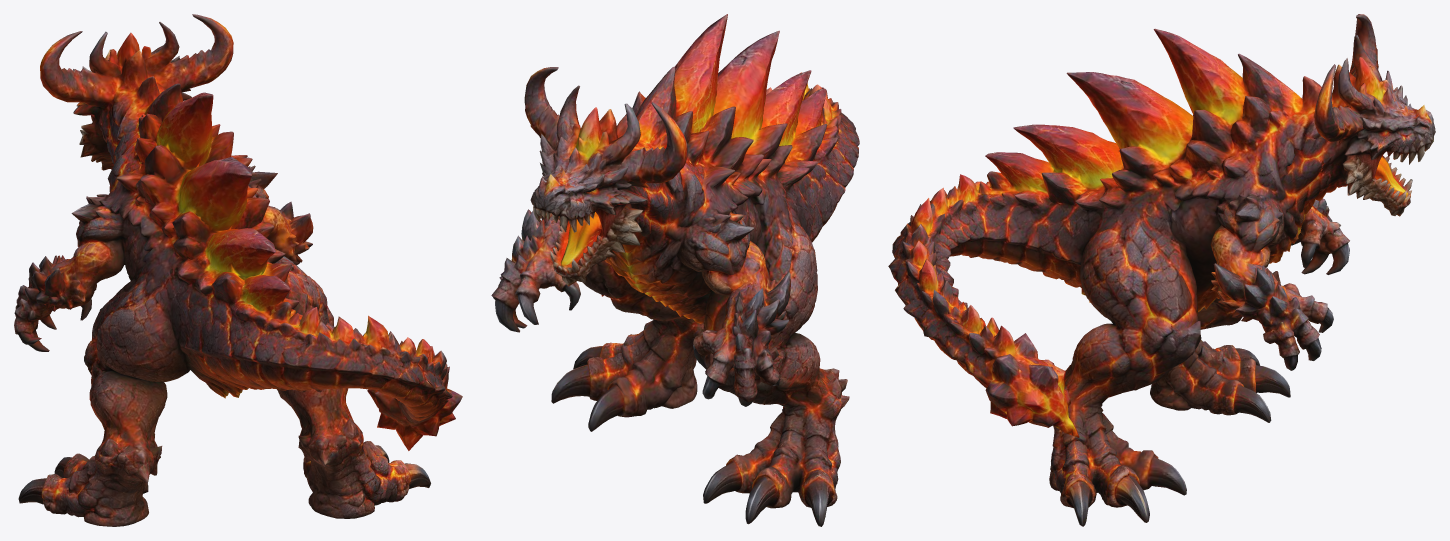
Rendered from boss_45.glb.
The picture shows the model from 3 angles, left to right: view 1: azimuth 30°, elevation 25°; view 2: azimuth 150°, elevation 25°; view 3: azimuth 270°, elevation 25°; orthographic projection. The views are drawn at different scales.
Visible parts, largest first — view 1: tripo_node_a736597d-c3fb-4f76-82c5-25ebc18069dc; view 2: tripo_node_a736597d-c3fb-4f76-82c5-25ebc18069dc; view 3: tripo_node_a736597d-c3fb-4f76-82c5-25ebc18069dc.
Part boxes in pixels (x1=…): tripo_node_a736597d-c3fb-4f76-82c5-25ebc18069dc: x1=14, y1=14, x2=462, y2=526; tripo_node_a736597d-c3fb-4f76-82c5-25ebc18069dc: x1=491, y1=14, x2=859, y2=526; tripo_node_a736597d-c3fb-4f76-82c5-25ebc18069dc: x1=888, y1=14, x2=1435, y2=526.
Bounding box in the file's own units: 0.6834 × 0.8309 × 1.
Materials: 1 (1 with a texture image).
